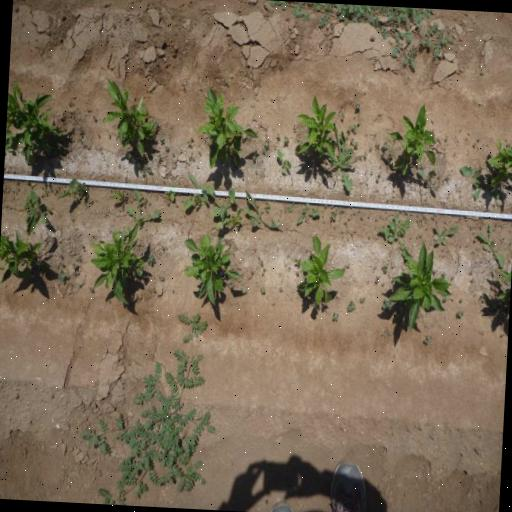plant: (389, 243, 452, 331), (7, 74, 65, 169), (196, 87, 259, 174), (98, 74, 156, 158), (181, 231, 244, 306), (88, 227, 146, 306), (387, 101, 439, 177), (0, 219, 51, 292), (297, 232, 344, 309), (298, 92, 337, 164), (485, 132, 512, 185)
weed: (79, 308, 218, 505), (268, 0, 459, 75), (326, 127, 360, 193), (244, 187, 282, 235), (378, 213, 416, 260), (200, 183, 236, 232), (459, 167, 502, 207), (474, 222, 510, 269), (124, 189, 162, 223), (432, 222, 460, 248), (58, 177, 88, 201), (29, 189, 48, 225), (295, 202, 323, 226), (416, 167, 440, 194), (183, 193, 208, 213), (276, 150, 292, 176), (108, 186, 130, 202), (227, 208, 243, 230), (23, 195, 33, 222), (136, 162, 154, 177), (48, 140, 63, 156), (142, 250, 156, 266), (5, 138, 15, 157), (56, 270, 69, 283), (262, 140, 272, 155), (164, 190, 176, 202), (379, 327, 391, 339), (346, 124, 358, 136), (381, 298, 392, 311), (152, 119, 162, 132), (346, 300, 356, 312), (293, 140, 301, 154), (330, 311, 340, 322), (220, 75, 230, 86), (423, 334, 432, 346), (390, 304, 400, 314), (349, 138, 359, 148), (380, 262, 388, 274), (343, 215, 351, 226), (479, 293, 487, 304), (375, 171, 382, 183), (76, 125, 84, 135), (288, 202, 296, 212), (456, 310, 464, 320), (282, 136, 290, 146), (389, 149, 396, 160), (158, 134, 165, 144), (71, 262, 79, 270), (329, 213, 337, 221), (342, 262, 350, 270), (358, 296, 366, 304), (440, 272, 448, 280), (76, 254, 82, 264), (264, 202, 270, 212), (295, 256, 301, 266), (400, 210, 410, 216), (362, 151, 368, 161), (253, 150, 259, 160), (41, 188, 48, 196), (375, 276, 381, 285), (65, 133, 72, 140), (186, 141, 193, 148), (86, 197, 94, 203), (260, 286, 266, 294), (337, 208, 345, 214), (382, 142, 388, 150), (374, 141, 380, 149), (494, 278, 502, 284), (80, 244, 86, 252), (24, 180, 32, 186), (416, 232, 424, 238), (181, 83, 186, 92), (158, 275, 164, 282), (432, 269, 438, 276), (477, 166, 484, 172), (432, 213, 438, 220), (278, 286, 284, 292), (442, 296, 448, 302), (92, 116, 98, 122), (81, 140, 85, 148), (296, 270, 300, 278), (356, 102, 360, 110), (165, 144, 169, 152), (152, 288, 156, 295), (261, 271, 265, 278), (340, 114, 344, 121), (277, 133, 281, 140), (59, 252, 63, 258), (89, 287, 93, 293), (60, 262, 64, 268), (271, 218, 275, 224), (422, 214, 426, 220), (469, 225, 473, 231), (459, 298, 463, 304), (380, 154, 384, 160), (190, 137, 194, 142), (73, 270, 76, 276), (260, 260, 263, 266), (382, 282, 385, 288), (387, 164, 390, 170), (445, 136, 448, 142), (368, 146, 372, 150), (156, 154, 160, 158), (74, 228, 78, 232), (14, 180, 18, 184), (360, 216, 364, 220), (357, 120, 361, 124), (472, 142, 476, 146), (239, 288, 242, 292), (166, 202, 169, 206), (272, 302, 275, 306), (368, 234, 370, 240), (324, 204, 327, 208), (263, 268, 266, 271), (70, 218, 73, 221), (232, 284, 234, 288), (374, 134, 377, 136), (176, 204, 178, 206)
